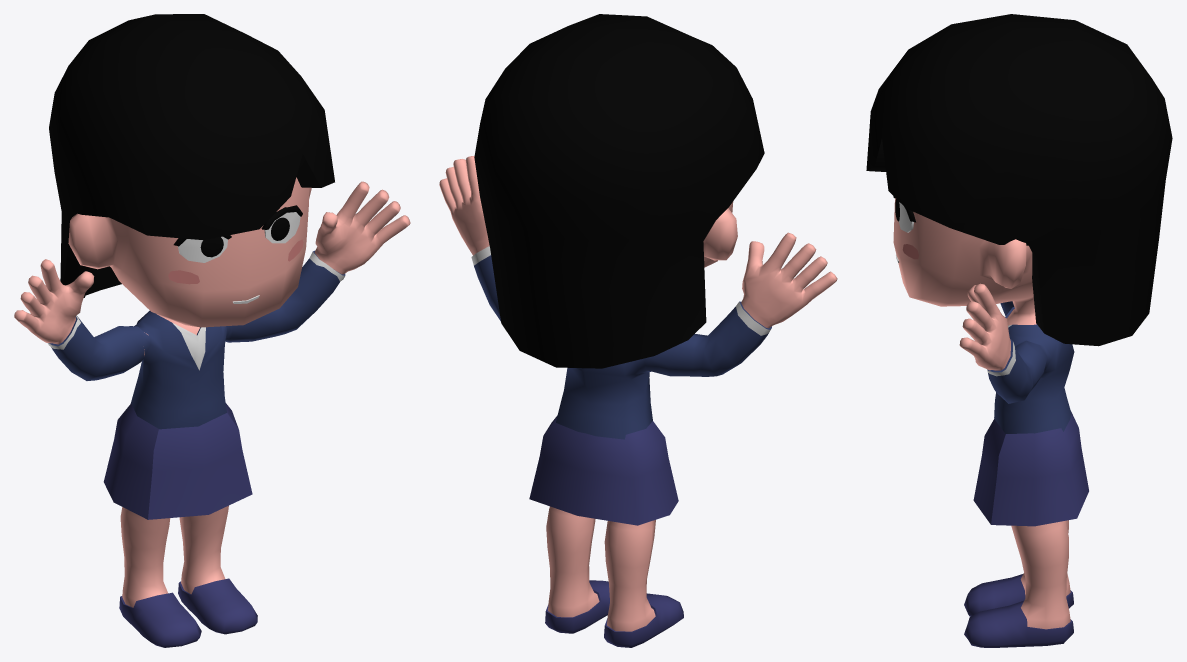
The model's file is Personaje_juzgado.fbx.
3 views of the same model, side by side, from view 1: azimuth 30°, elevation 25°; view 2: azimuth 150°, elevation 25°; view 3: azimuth 270°, elevation 25° (orthographic).
Parts seen in each view (by area): view 1: hair6.001, body.017, shirt3.014, body.016, shoes2.001, eyesbase2.010, eyes6.008; view 2: hair6.001, body.017, shirt3.014, body.016, shoes2.001; view 3: hair6.001, body.017, body.016, shirt3.014, shoes2.001.
Part boxes in pixels (<box>): hair6.001: <box>49,14,334,297</box>; body.017: <box>14,177,410,607</box>; shirt3.014: <box>47,250,345,429</box>; body.016: <box>103,403,252,519</box>; shoes2.001: <box>119,578,257,647</box>; eyesbase2.010: <box>173,205,302,262</box>; eyes6.008: <box>200,217,289,257</box>; hair6.001: <box>474,14,764,368</box>; body.017: <box>439,156,837,631</box>; shirt3.014: <box>471,246,771,439</box>; body.016: <box>529,415,678,525</box>; shoes2.001: <box>545,580,683,647</box>; hair6.001: <box>866,14,1172,346</box>; body.017: <box>893,198,1070,629</box>; body.016: <box>973,411,1088,526</box>; shirt3.014: <box>987,301,1074,433</box>; shoes2.001: <box>964,574,1073,647</box>.
Bounding box in the file's own units: 124 × 177 × 82.34.
